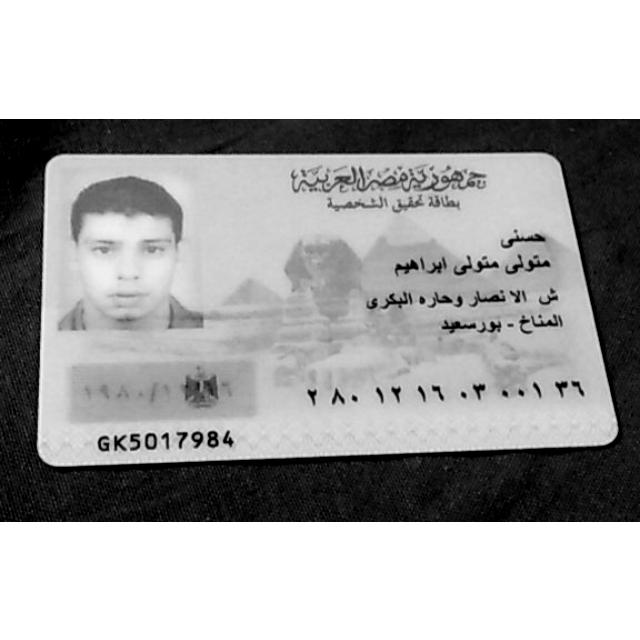id_card: (37, 154, 617, 465)
